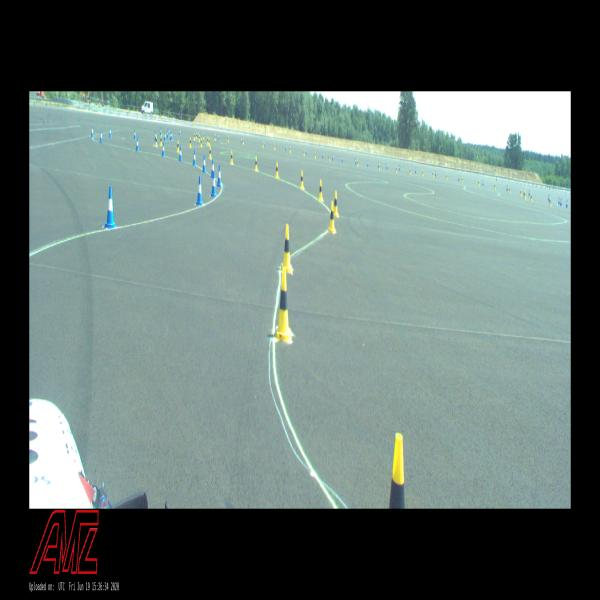blue_cone: (104, 186, 116, 229), (196, 176, 203, 205), (210, 172, 217, 196), (217, 165, 221, 187), (178, 147, 183, 161), (202, 155, 206, 172), (192, 150, 196, 166), (211, 159, 214, 178), (136, 138, 139, 151), (100, 130, 103, 143), (162, 143, 165, 156), (91, 126, 94, 137), (109, 127, 112, 138), (134, 130, 136, 140), (164, 132, 166, 141), (170, 132, 172, 140), (167, 130, 169, 138), (171, 132, 173, 140), (160, 128, 162, 135), (155, 132, 156, 140), (169, 128, 170, 135), (218, 134, 219, 140), (286, 145, 286, 150)
yellow_cone: (275, 266, 291, 342), (389, 433, 405, 509), (281, 224, 292, 274), (328, 202, 336, 234), (332, 191, 339, 217), (318, 180, 323, 202), (300, 171, 304, 189), (275, 162, 279, 178), (255, 156, 258, 171), (209, 147, 212, 158), (155, 136, 158, 146), (231, 150, 233, 163), (189, 138, 192, 146), (177, 140, 179, 152), (160, 136, 162, 146), (200, 138, 202, 147), (207, 136, 209, 144), (208, 138, 210, 146), (203, 133, 205, 140), (314, 152, 316, 159), (214, 134, 216, 140), (289, 146, 291, 152), (328, 155, 330, 161), (199, 134, 200, 142), (196, 132, 197, 139), (194, 133, 195, 140), (274, 144, 275, 150), (228, 136, 229, 142)
